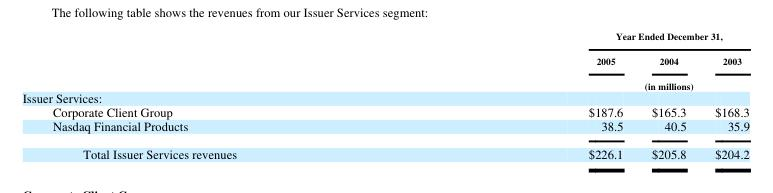table: (21, 29, 748, 161)
table column: (21, 29, 411, 161), (411, 29, 636, 161), (636, 29, 700, 161), (700, 29, 748, 161)
table column header: (21, 29, 748, 90)
table projected row header: (21, 90, 748, 104)
table row: (21, 48, 748, 73), (21, 139, 748, 161), (21, 118, 748, 139), (21, 29, 748, 48), (21, 73, 748, 90), (21, 90, 748, 104), (21, 104, 748, 118)
table spanning cell: (411, 29, 748, 48), (411, 73, 748, 90)
